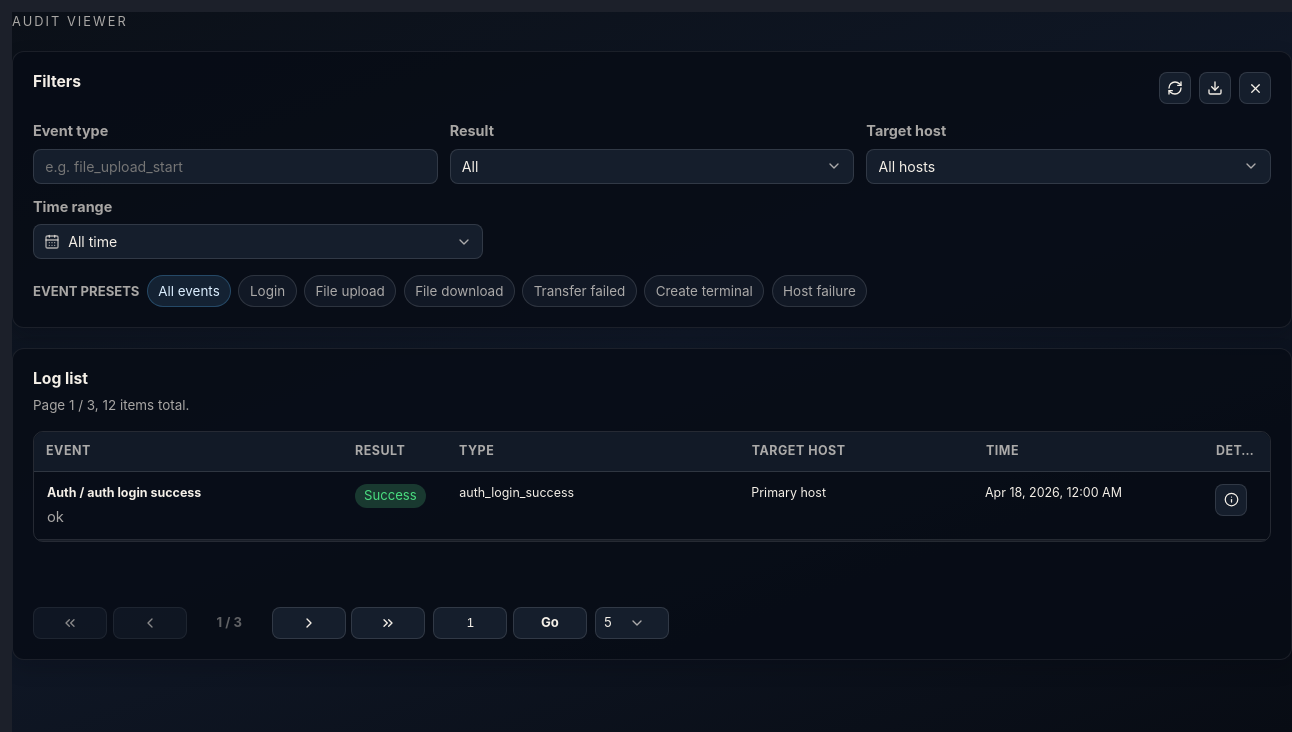
AuditPage › uses localized result options
What coordinates should you click on to do the following:
click the dropdown named "Result"
I would click on:
 (470, 166)
Its box is top-left (450, 148), bottom-right (854, 184).
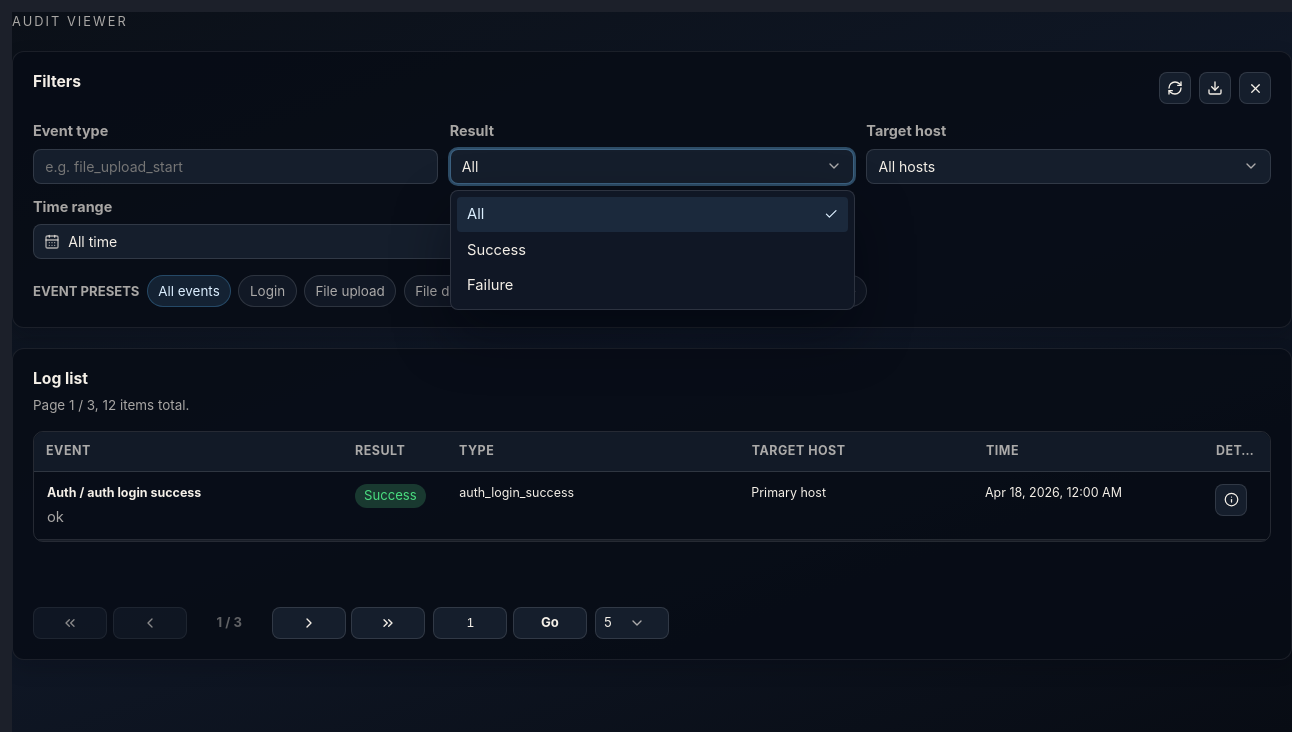
Expected: the option "Success" is shown, top-left (467, 241), bottom-right (526, 259)
Expected: the option "Failure" is shown, top-left (467, 276), bottom-right (513, 294)
